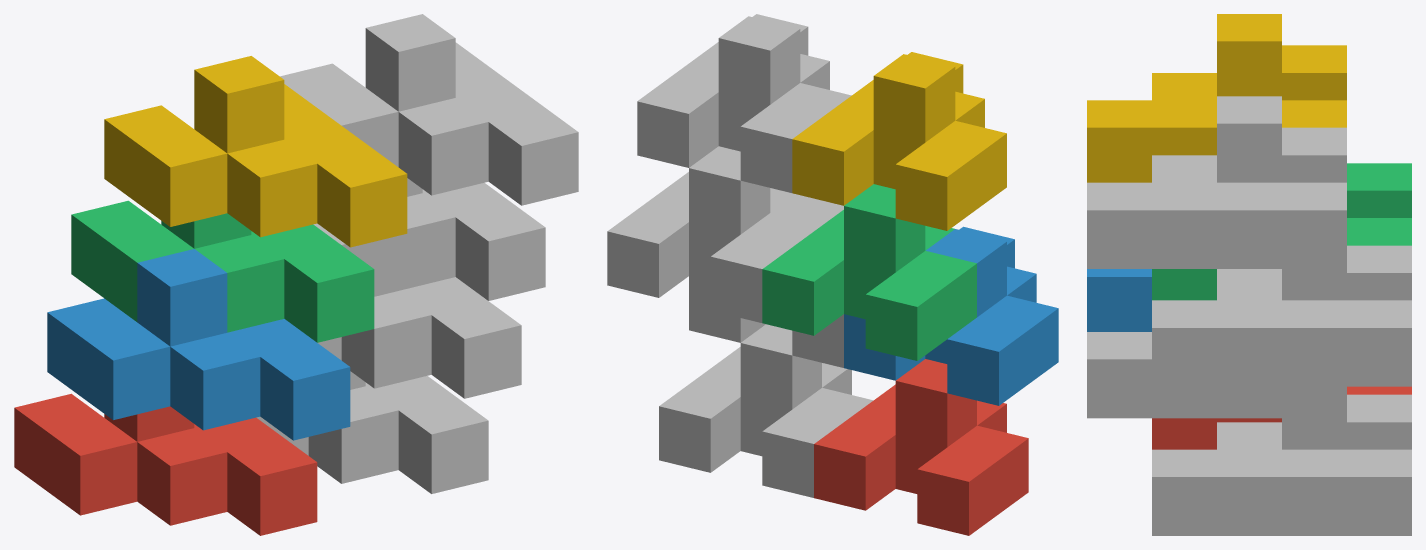
File: tiling.obj
3 renders of one model, left to right at view 1: azimuth 30°, elevation 25°; view 2: azimuth 150°, elevation 25°; view 3: azimuth 270°, elevation 25°, orthographic. The views are drawn at different scales.
Parts seen in each view (by area): view 1: copy_1_domain_4, copy_1_domain_2, copy_1_domain_8, copy_1_domain_1, copy_1_domain_3, copy_1_domain_6, copy_1_domain_5, copy_1_domain_7; view 2: copy_1_domain_4, copy_1_domain_1, copy_1_domain_3, copy_1_domain_8, copy_1_domain_5, copy_1_domain_7, copy_1_domain_2, copy_1_domain_6; view 3: copy_1_domain_8, copy_1_domain_5, copy_1_domain_7, copy_1_domain_4, copy_1_domain_6, copy_1_domain_3, copy_1_domain_2, copy_1_domain_1.
Boxes of the visible parts, x1,y1,x2,y2 form: copy_1_domain_4: (104,56,407,247); copy_1_domain_2: (47,249,350,440); copy_1_domain_8: (280,14,578,205); copy_1_domain_1: (14,393,317,535); copy_1_domain_3: (71,200,374,342); copy_1_domain_6: (313,223,521,398); copy_1_domain_5: (256,371,488,493); copy_1_domain_7: (398,178,545,300); copy_1_domain_4: (792,52,1006,230); copy_1_domain_1: (814,359,1028,535); copy_1_domain_3: (762,184,976,360); copy_1_domain_8: (637,14,851,192); copy_1_domain_5: (659,324,873,497); copy_1_domain_7: (607,146,821,322); copy_1_domain_2: (844,226,1058,405); copy_1_domain_6: (689,194,843,367); copy_1_domain_8: (1087,96,1346,268); copy_1_domain_5: (1152,394,1411,535); copy_1_domain_7: (1152,245,1411,386); copy_1_domain_4: (1087,14,1346,182); copy_1_domain_6: (1087,269,1346,418); copy_1_domain_3: (1152,163,1411,300); copy_1_domain_2: (1087,269,1151,331); copy_1_domain_1: (1152,386,1411,449).
Bounding box in the file's own units: 7 × 7 × 5.
